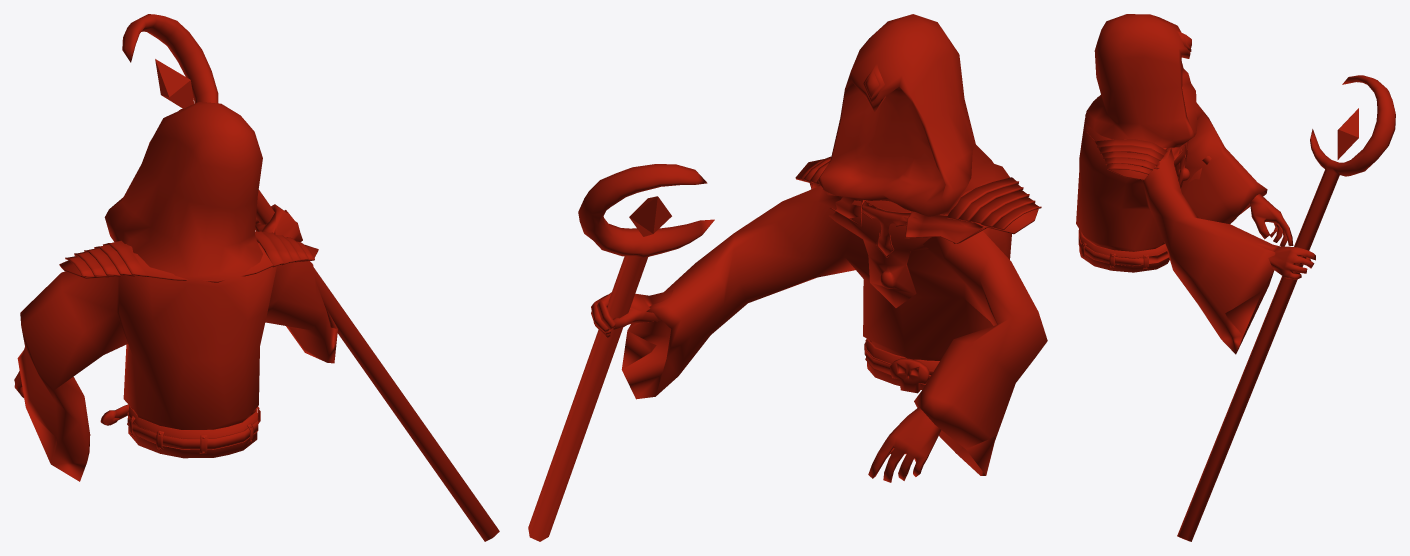
File: top_000043.obj
3 views of the same model, side by side, from view 1: azimuth 30°, elevation 25°; view 2: azimuth 150°, elevation 25°; view 3: azimuth 270°, elevation 25° (orthographic). The views are drawn at different scales.
Parts seen in each view (by area): view 1: LowPoly_Warlock.000_Plane.005; view 2: LowPoly_Warlock.000_Plane.005; view 3: LowPoly_Warlock.000_Plane.005.
Part boxes in pixels (x1=…): LowPoly_Warlock.000_Plane.005: x1=14, y1=14, x2=499, y2=541; LowPoly_Warlock.000_Plane.005: x1=528, y1=14, x2=1047, y2=541; LowPoly_Warlock.000_Plane.005: x1=1076, y1=14, x2=1395, y2=541.
Bounding box in the file's own units: 1.62 × 1.73 × 1.22.
